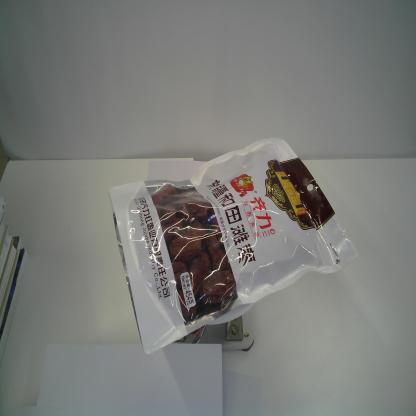Dried Food: (108, 135, 359, 358)
